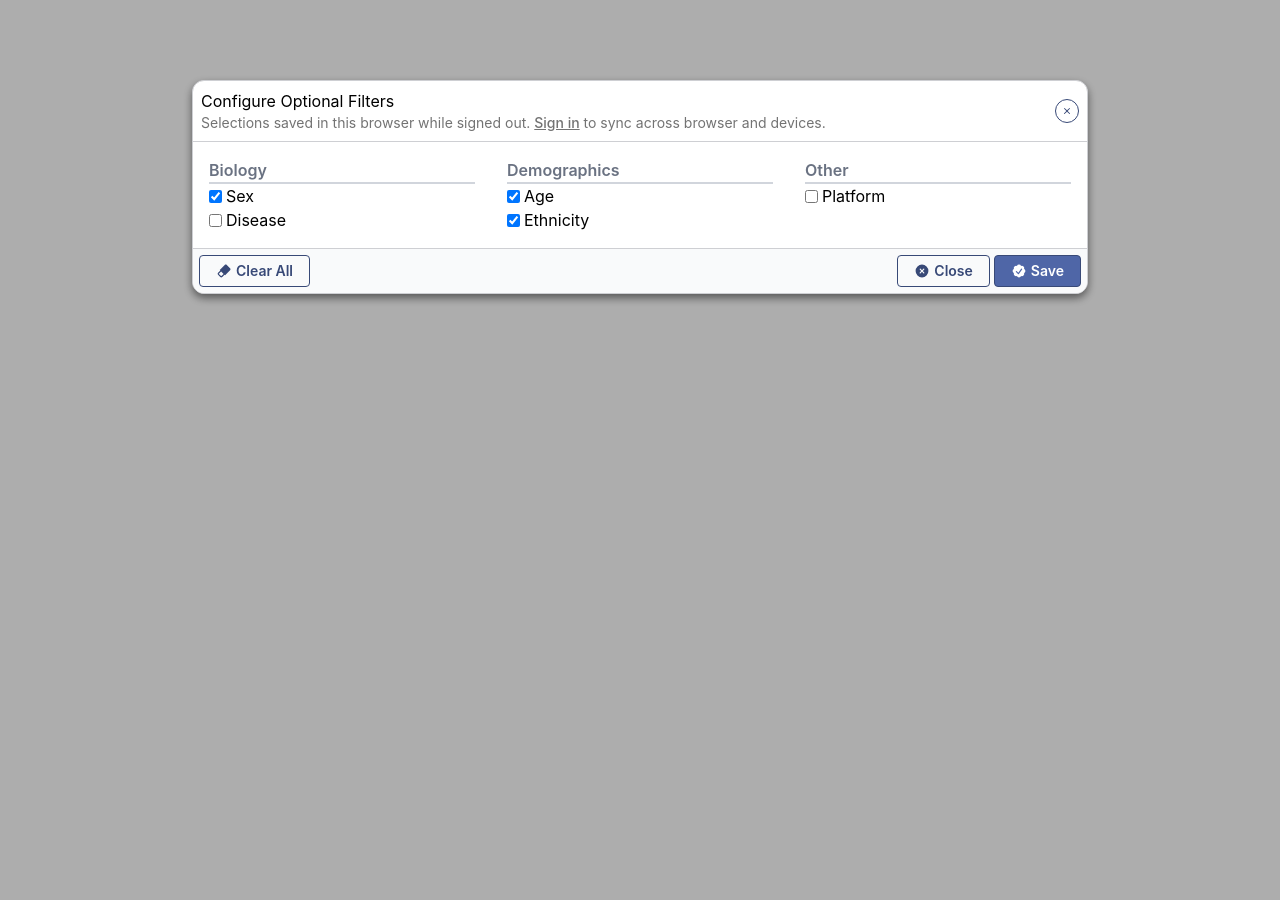
OptionalFacetsConfigModal › clears all checkboxes when Clear All button is clicked
Expected: the checkbox labelled "Age" is checked, 507,190 -> 520,202
Expected: the checkbox labelled "Sex" is checked, 209,190 -> 222,202
// Click Clear All
Click the button "Clear All" at x=254, y=271, box 199,255 -> 310,287
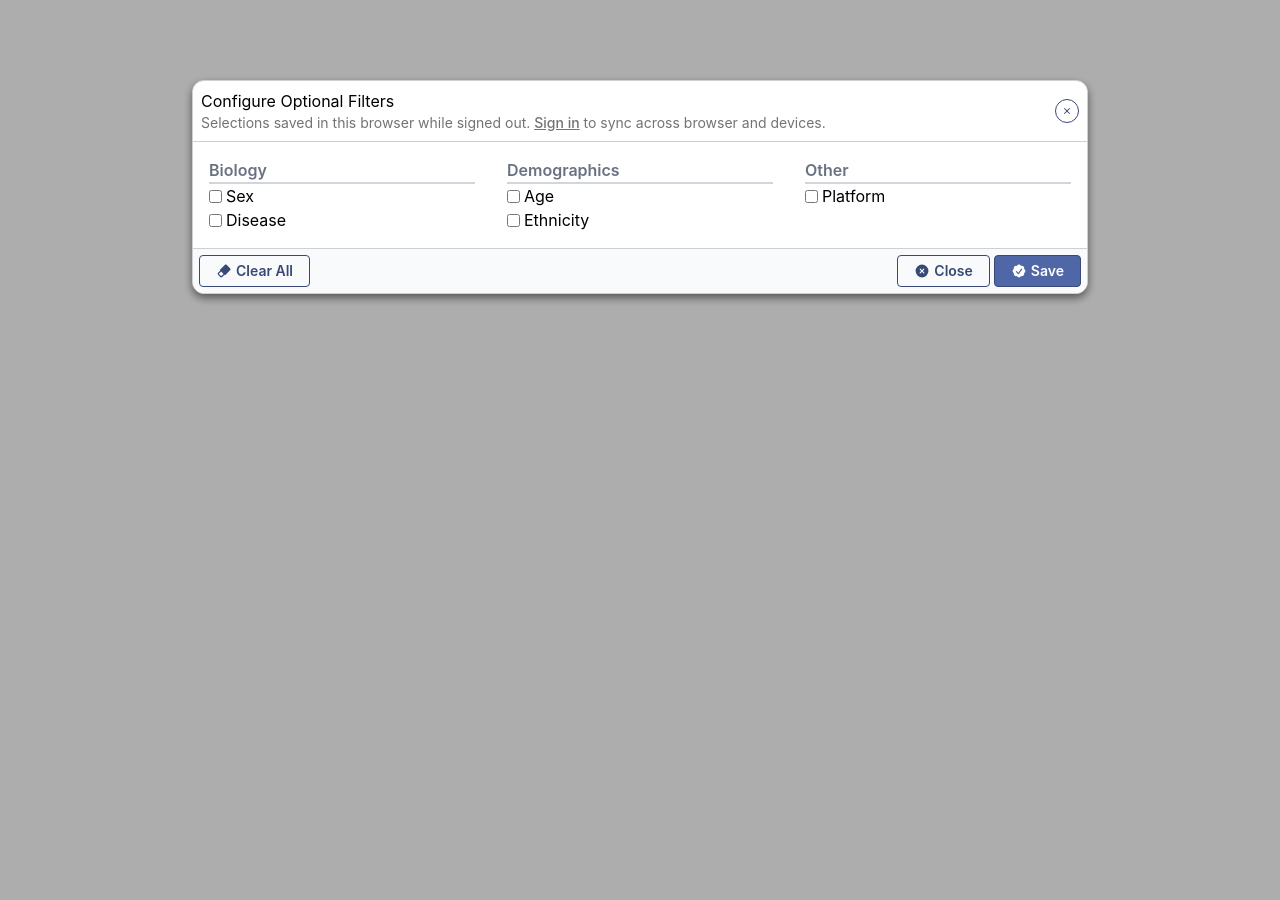
Result: the checkbox labelled "Age" is not checked at 507,190 -> 520,202
Result: the checkbox labelled "Sex" is not checked at 209,190 -> 222,202
